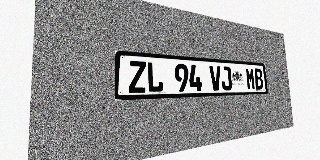4: (188, 64, 202, 91)
9: (174, 63, 189, 92)
B: (254, 68, 264, 89)
J: (220, 66, 232, 90)
L: (147, 62, 163, 92)
M: (245, 68, 255, 90)
V: (209, 65, 222, 91)
Z: (128, 60, 147, 93)
